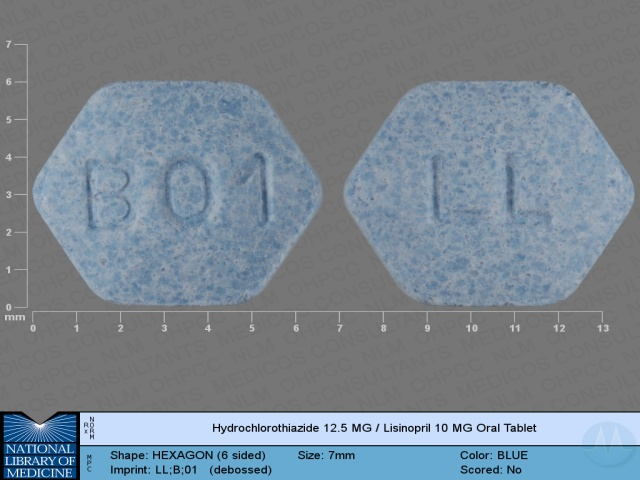0: (158, 154, 214, 226)
1: (237, 149, 278, 227)
B: (80, 156, 138, 235)
L: (427, 149, 487, 233), (500, 152, 557, 230)
